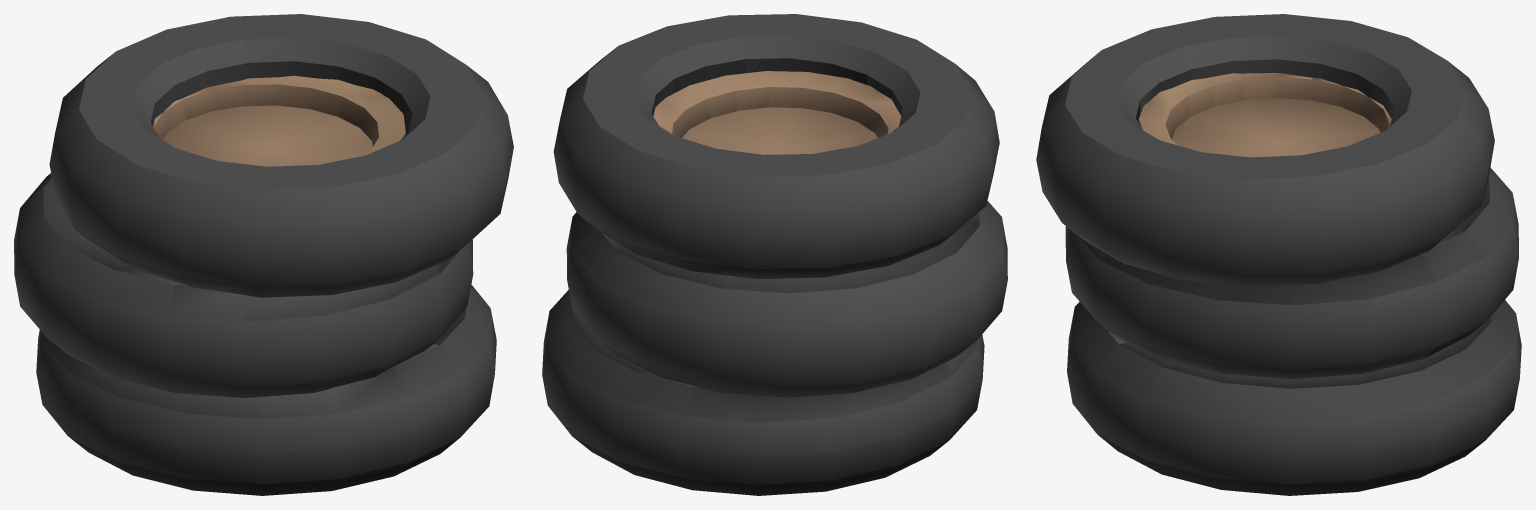
The model's file is tyre_stack.glb.
3 renders of one model, left to right at view 1: azimuth 30°, elevation 25°; view 2: azimuth 150°, elevation 25°; view 3: azimuth 270°, elevation 25°, orthographic. The views are drawn at different scales.
Visible parts, largest first — view 1: static; view 2: static; view 3: static.
Boxes of the visible parts, x1,y1,x2,y2 form: static: (14,14,513,495); static: (542,14,1007,495); static: (1036,14,1521,495).
Size of the model in its own units: 0.8262 by 0.5973 by 0.8231.
